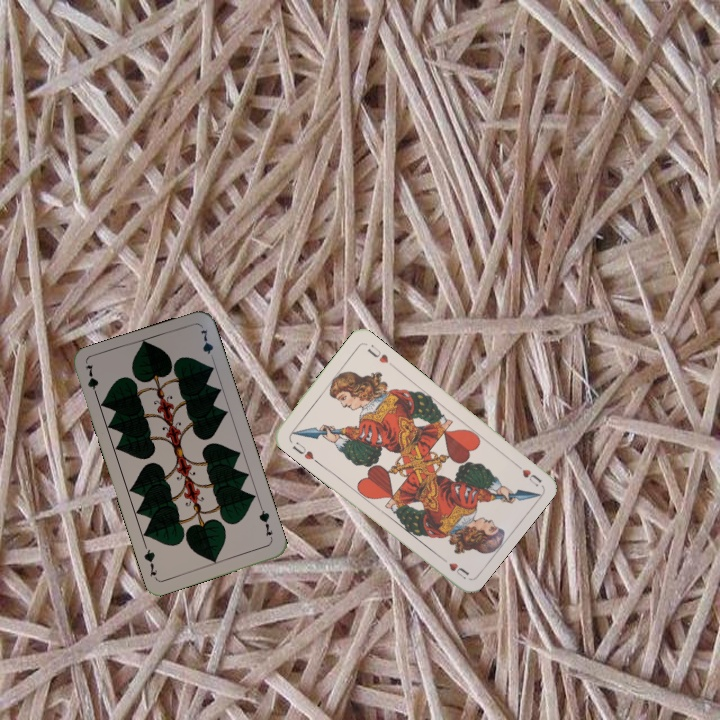G7: (81, 360, 101, 401), (255, 503, 275, 543)
HU: (509, 458, 544, 489), (288, 438, 316, 462)
